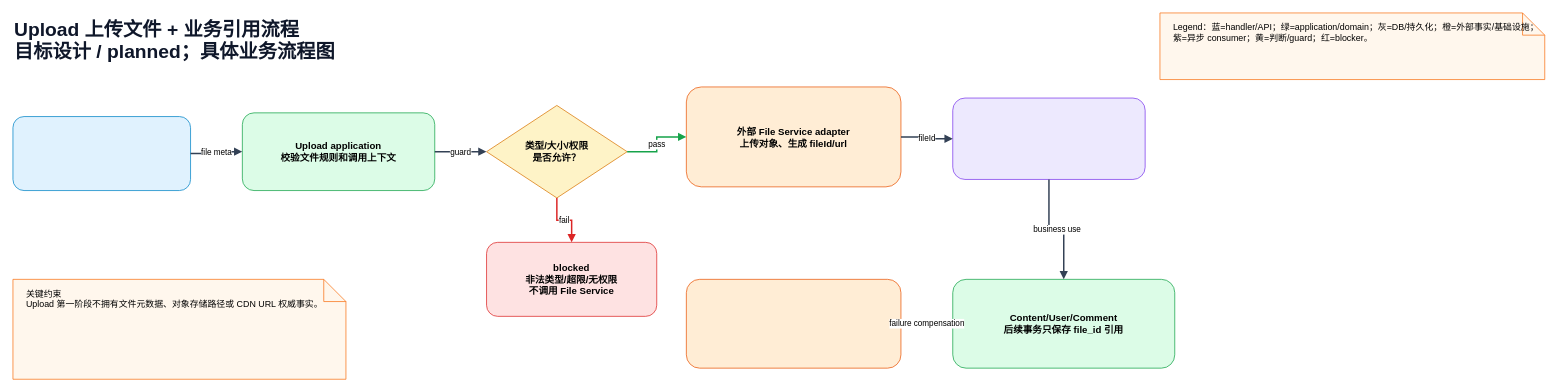
Some shapes in this 1558 by 392 pixel diagram are drawn without their labels. The shapes that lost their labels are listed below. From the top down, each one's box as (x1, y1, x2, y2) in pixels, then its label:
(12, 116, 191, 191): POST /files Handler 解析 multipart file/type/ownerHint
(952, 97, 1145, 179): 返回 fileId / URL 业务服务保存引用
(686, 279, 901, 368): 业务失败补偿 可异步删除临时文件 不进入 Comment/Post 聚合
